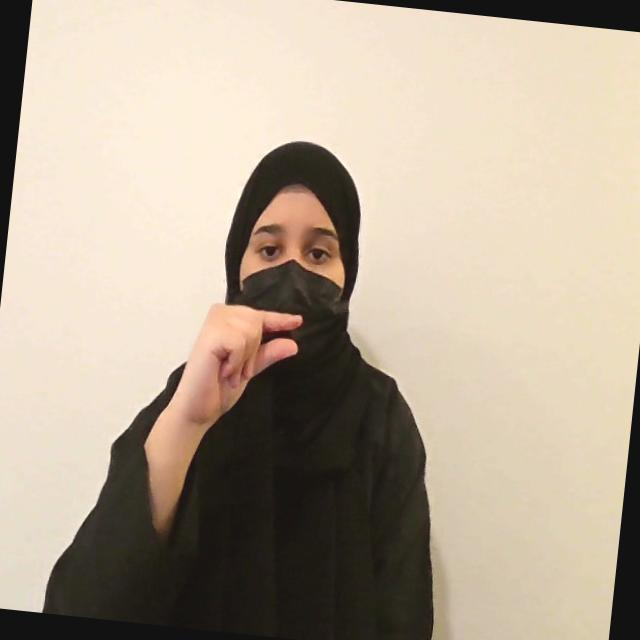fasting: (173, 296, 304, 434)
